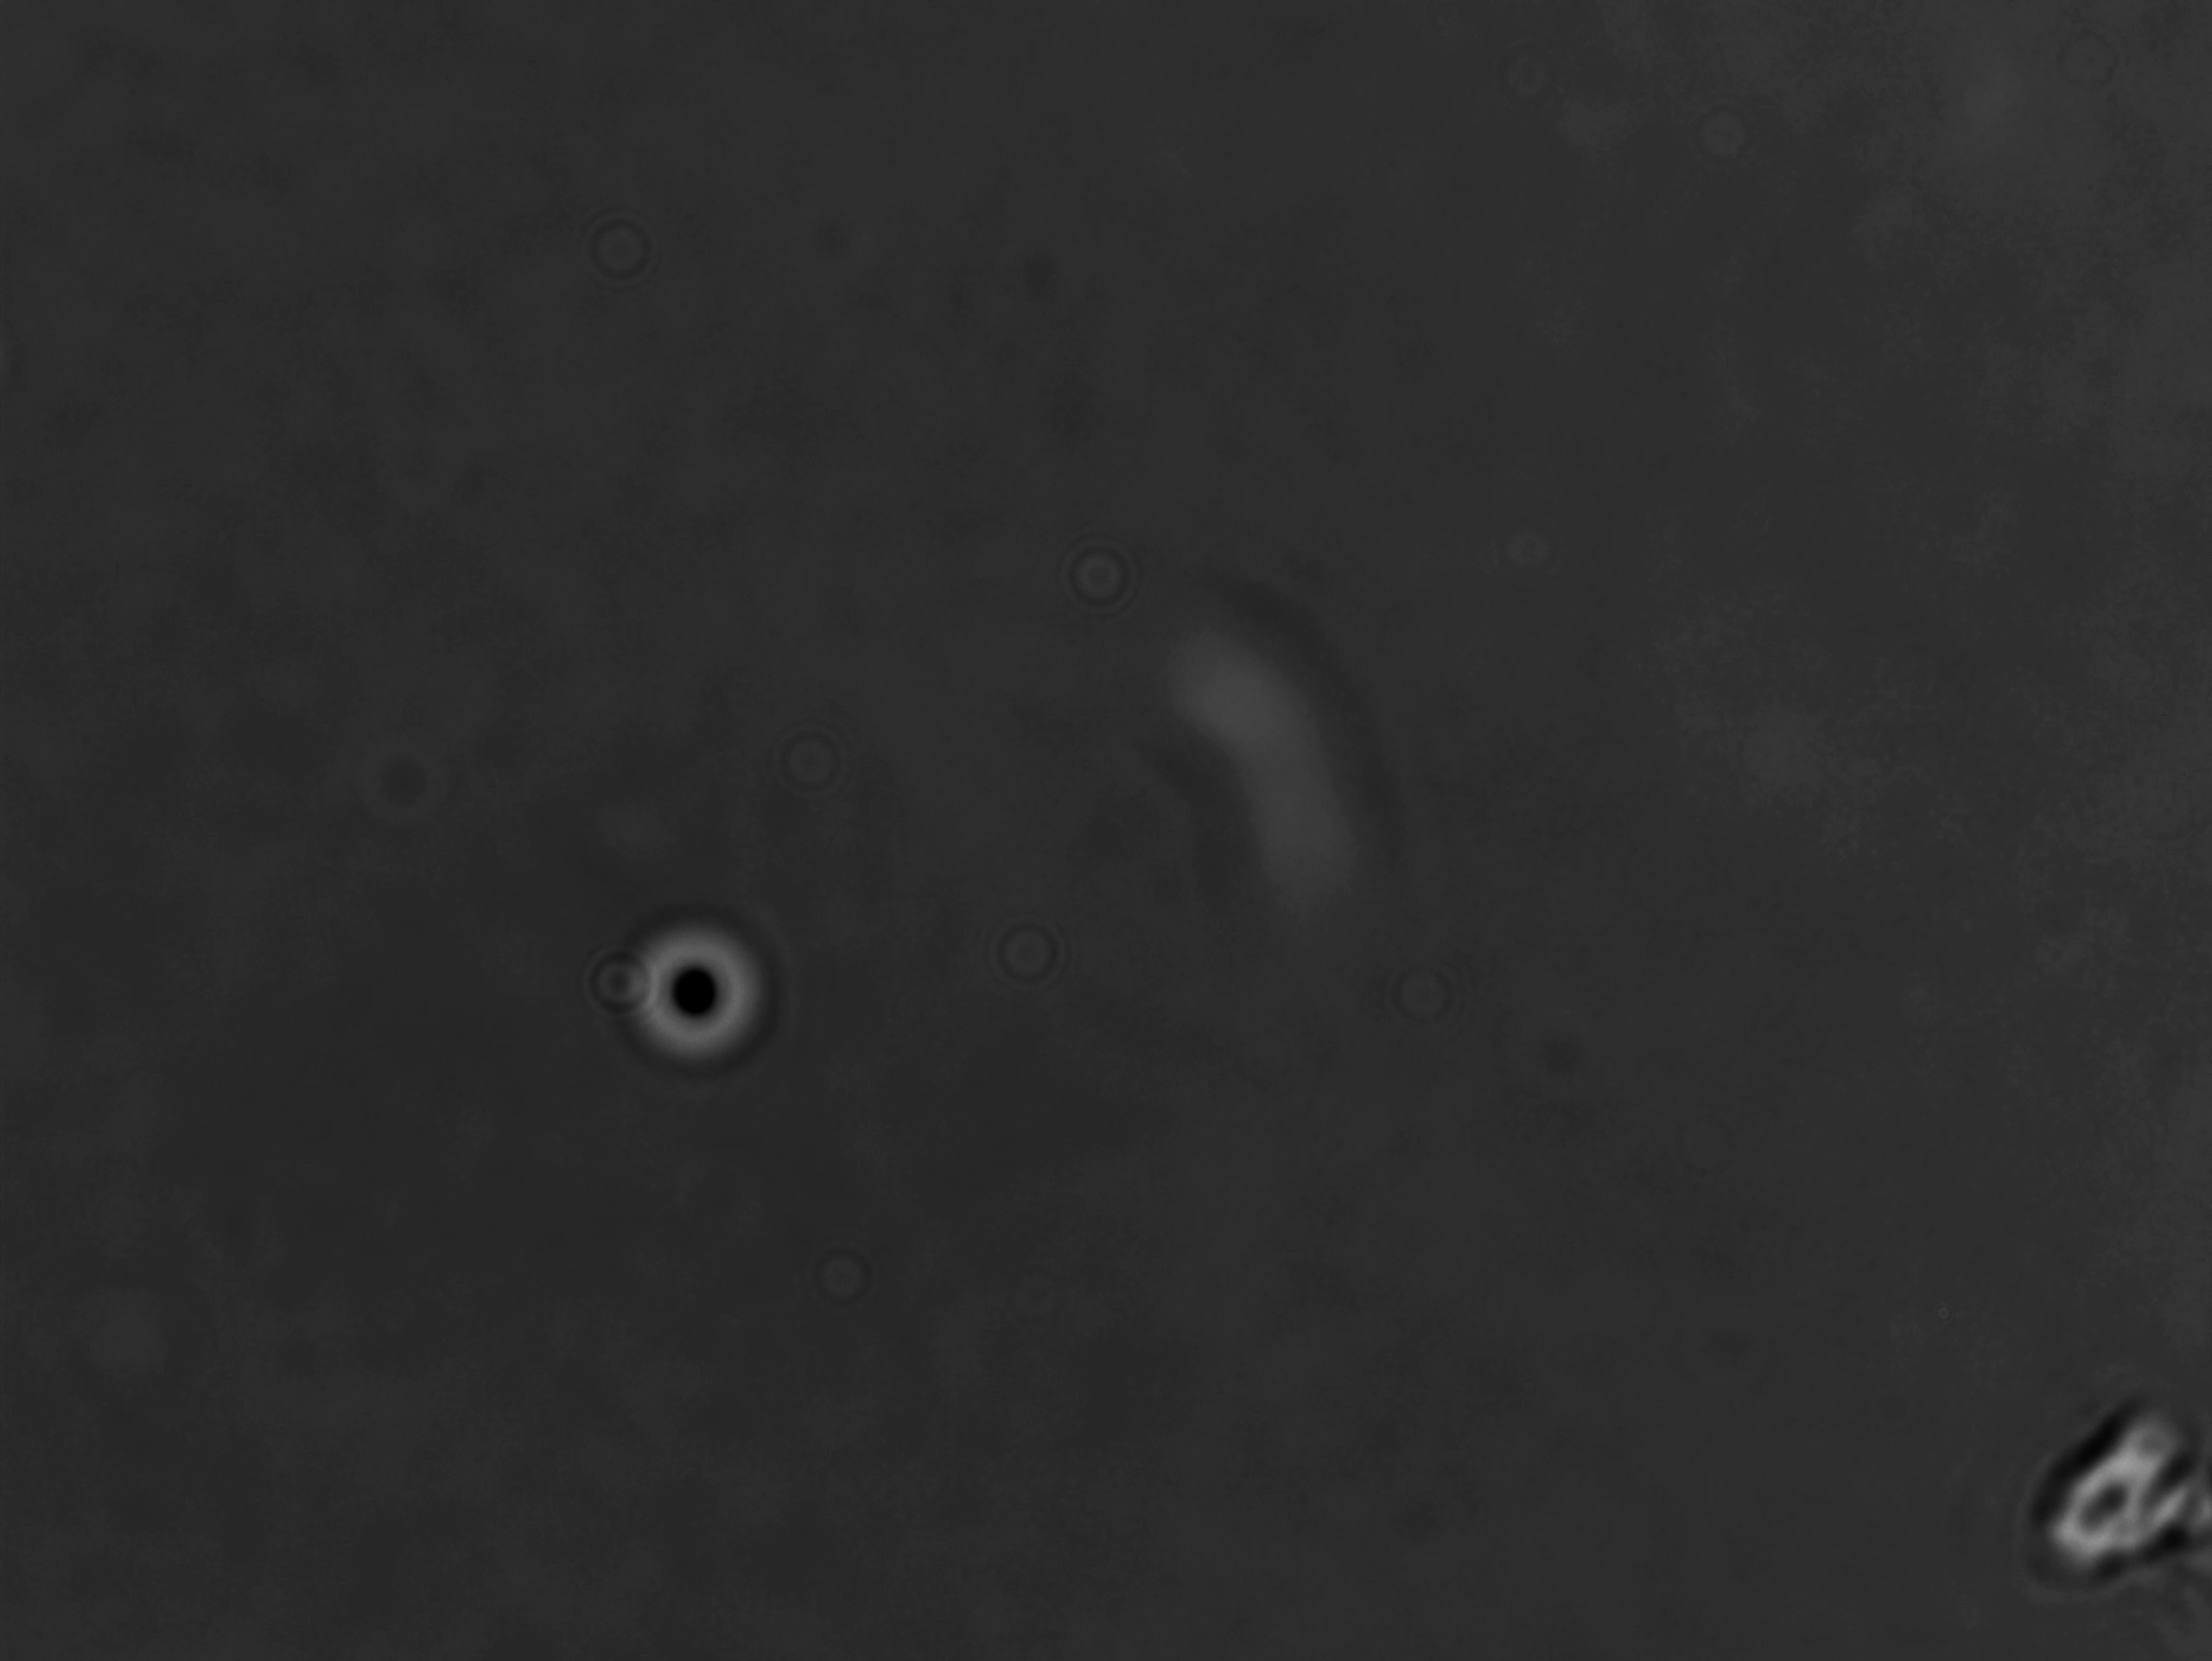depth:-40: (616, 919, 764, 1068)
